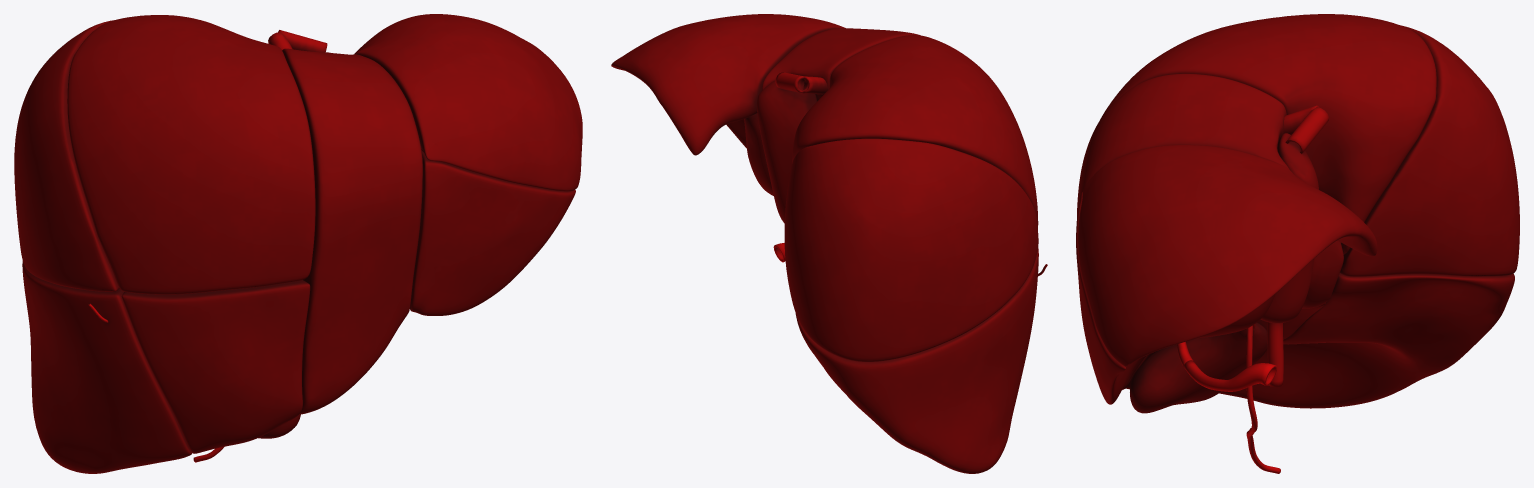
File: jetra.glb
3 views of the same model, side by side, from view 1: azimuth 30°, elevation 25°; view 2: azimuth 150°, elevation 25°; view 3: azimuth 270°, elevation 25° (orthographic). The views are drawn at different scales.
Parts seen in each view (by area): view 1: Posterior medial segment of liver (VIII), Left medial segment of liver (IV), Left posterior lateral segment of liver (II), Anterior medial segment of liver (V), Anterior lateral segment of liver (VI), Left anterior lateral segment of liver (III), Posterior lateral segment of liver (VII), Hepatic veins; view 2: Posterior lateral segment of liver (VII), Anterior lateral segment of liver (VI), Posterior medial segment of liver (VIII), Left posterior lateral segment of liver (II), Posterior segment of liver (I), Left medial segment of liver (IV), Left anterior lateral segment of liver (III), Hepatic veins; view 3: Left posterior lateral segment of liver (II), Posterior medial segment of liver (VIII), Posterior lateral segment of liver (VII), Anterior lateral segment of liver (VI), Left medial segment of liver (IV), Gallbladder, Posterior segment of liver (I), Left anterior lateral segment of liver (III), Common hepatic artery, Hepatic veins, Bile duct, Hepatic portal vein (+1 smaller).
Part boxes in pixels (bbox=[...]): Posterior medial segment of liver (VIII): bbox=[67, 15, 315, 294]; Left medial segment of liver (IV): bbox=[282, 48, 422, 414]; Left posterior lateral segment of liver (II): bbox=[354, 14, 582, 191]; Anterior medial segment of liver (V): bbox=[121, 280, 310, 453]; Anterior lateral segment of liver (VI): bbox=[22, 261, 192, 473]; Left anterior lateral segment of liver (III): bbox=[410, 151, 575, 315]; Posterior lateral segment of liver (VII): bbox=[14, 20, 119, 291]; Hepatic veins: bbox=[268, 30, 327, 52]; Posterior lateral segment of liver (VII): bbox=[784, 138, 1038, 361]; Anterior lateral segment of liver (VI): bbox=[795, 248, 1038, 473]; Posterior medial segment of liver (VIII): bbox=[792, 35, 1038, 228]; Left posterior lateral segment of liver (II): bbox=[611, 14, 845, 155]; Posterior segment of liver (I): bbox=[757, 80, 817, 223]; Left medial segment of liver (IV): bbox=[762, 28, 920, 100]; Left anterior lateral segment of liver (III): bbox=[726, 113, 773, 195]; Hepatic veins: bbox=[775, 72, 827, 94]; Left posterior lateral segment of liver (II): bbox=[1078, 145, 1377, 366]; Posterior medial segment of liver (VIII): bbox=[1100, 14, 1436, 254]; Posterior lateral segment of liver (VII): bbox=[1340, 25, 1519, 276]; Anterior lateral segment of liver (VI): bbox=[1219, 273, 1514, 408]; Left medial segment of liver (IV): bbox=[1077, 73, 1289, 389]; Gallbladder: bbox=[1130, 322, 1267, 413]; Posterior segment of liver (I): bbox=[1260, 133, 1343, 323]; Left anterior lateral segment of liver (III): bbox=[1076, 192, 1275, 404]; Common hepatic artery: bbox=[1184, 360, 1276, 391]; Hepatic veins: bbox=[1283, 105, 1328, 153]; Bile duct: bbox=[1246, 324, 1280, 473]; Hepatic portal vein: bbox=[1267, 322, 1283, 387].
Size of the model in its own units: 0.2045 by 0.1675 by 0.1516.
Materials: 1 (1 with a texture image).
